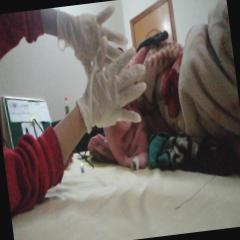gloved: (71, 28, 152, 130), (53, 0, 134, 84)
